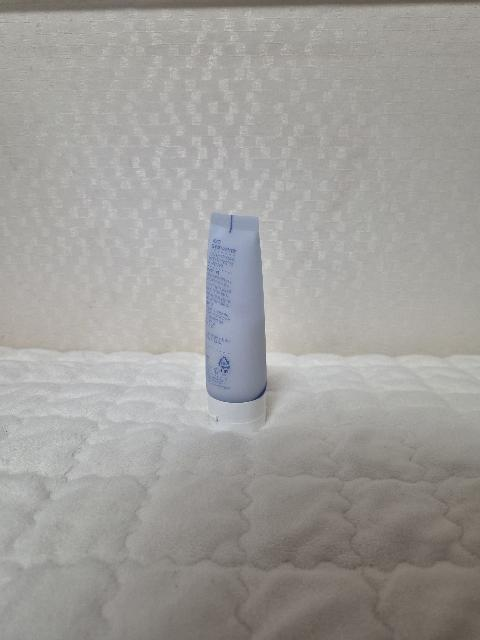handcream: (205, 212, 267, 434)
